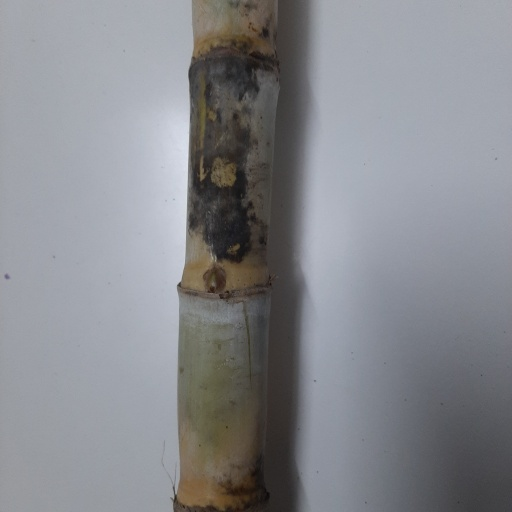Bud: (204, 266, 225, 294)
